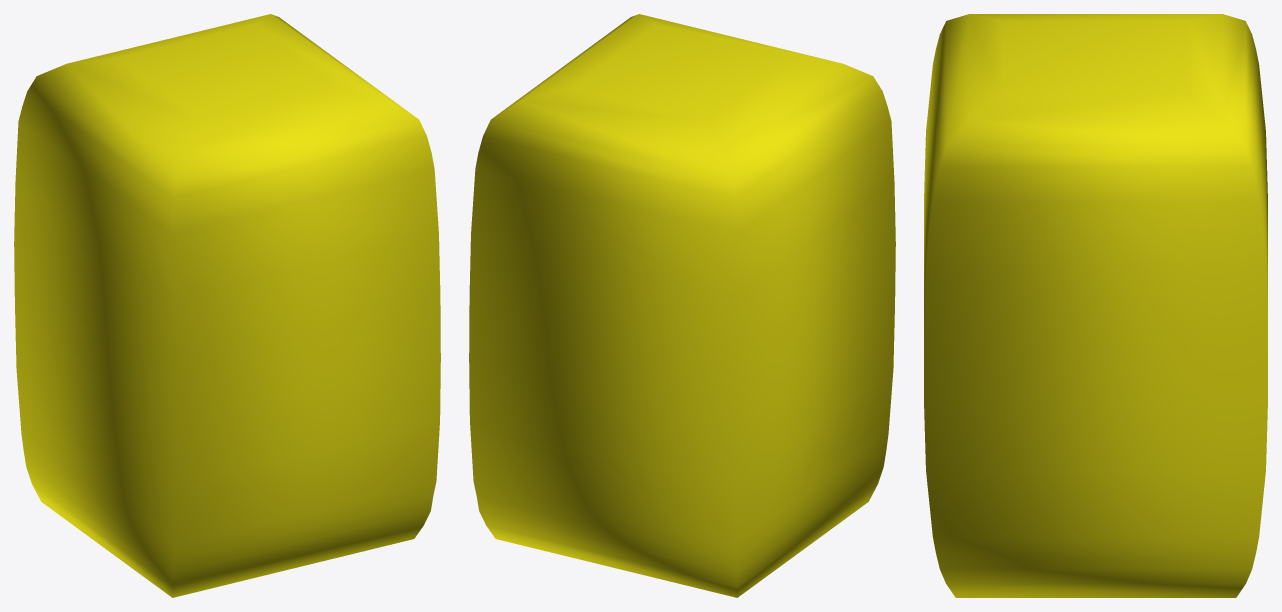
The model's file is FarinaMais500g.fbx.
The picture shows the model from 3 angles, left to right: view 1: azimuth 30°, elevation 25°; view 2: azimuth 150°, elevation 25°; view 3: azimuth 270°, elevation 25°; orthographic projection. The views are drawn at different scales.
Visible parts, largest first — view 1: FarinaMais500g; view 2: FarinaMais500g; view 3: FarinaMais500g.
Boxes of the visible parts, x1=… form: FarinaMais500g: x1=14, y1=14, x2=440, y2=597; FarinaMais500g: x1=469, y1=14, x2=895, y2=597; FarinaMais500g: x1=924, y1=14, x2=1267, y2=597.
Size of the model in its own units: 300 by 482 by 315.
